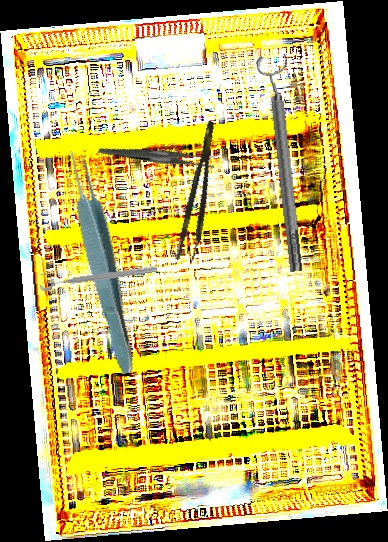Dressing Forceps: (97, 112, 219, 198)
Fixation Ring: (254, 53, 313, 274), (38, 255, 158, 293)
Tissue Forceps: (61, 146, 144, 377), (174, 120, 227, 264)
